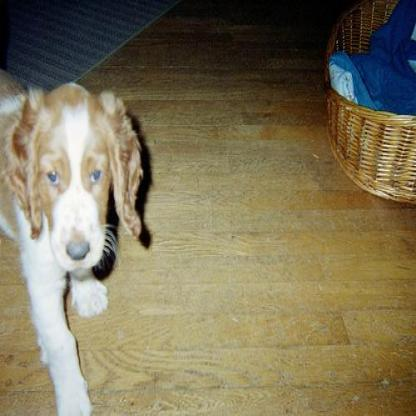Welsh_springer_spaniel: (0, 72, 156, 413)
